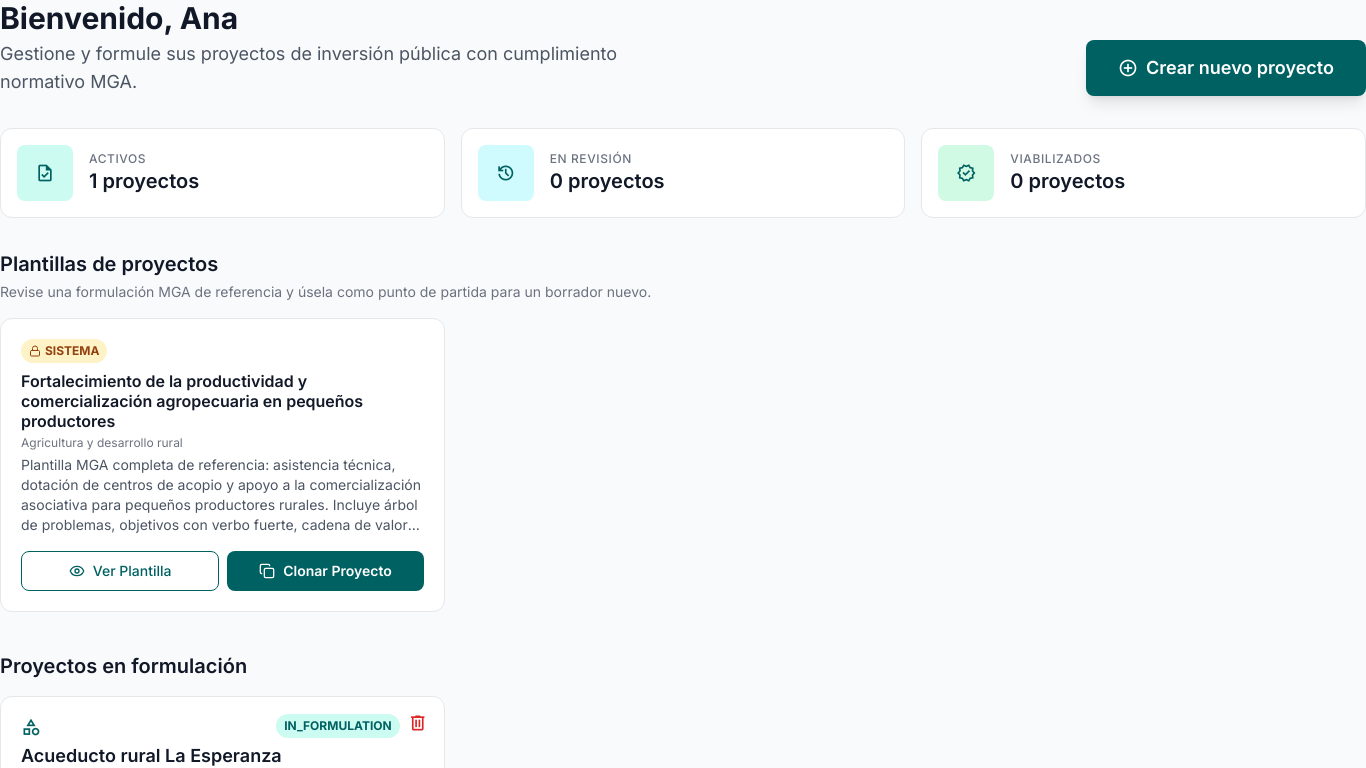
Test: ProjectsDashboard › abre y cierra el modal desde el botón principal
Click the button "Crear nuevo proyecto". click: (1226,68)
box: [1086,40,1365,96]
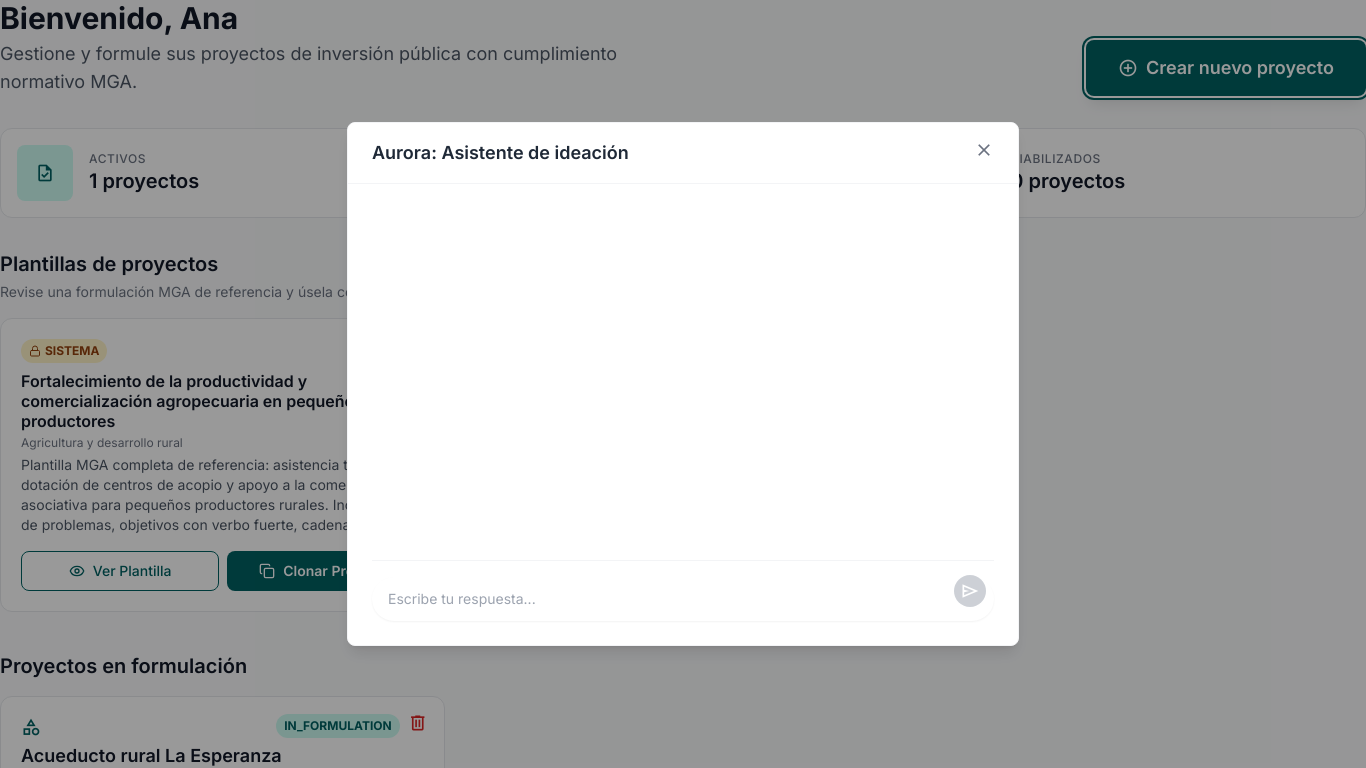
Click the button named "Cerrar". click: (984,153)
box: [974,140,994,166]
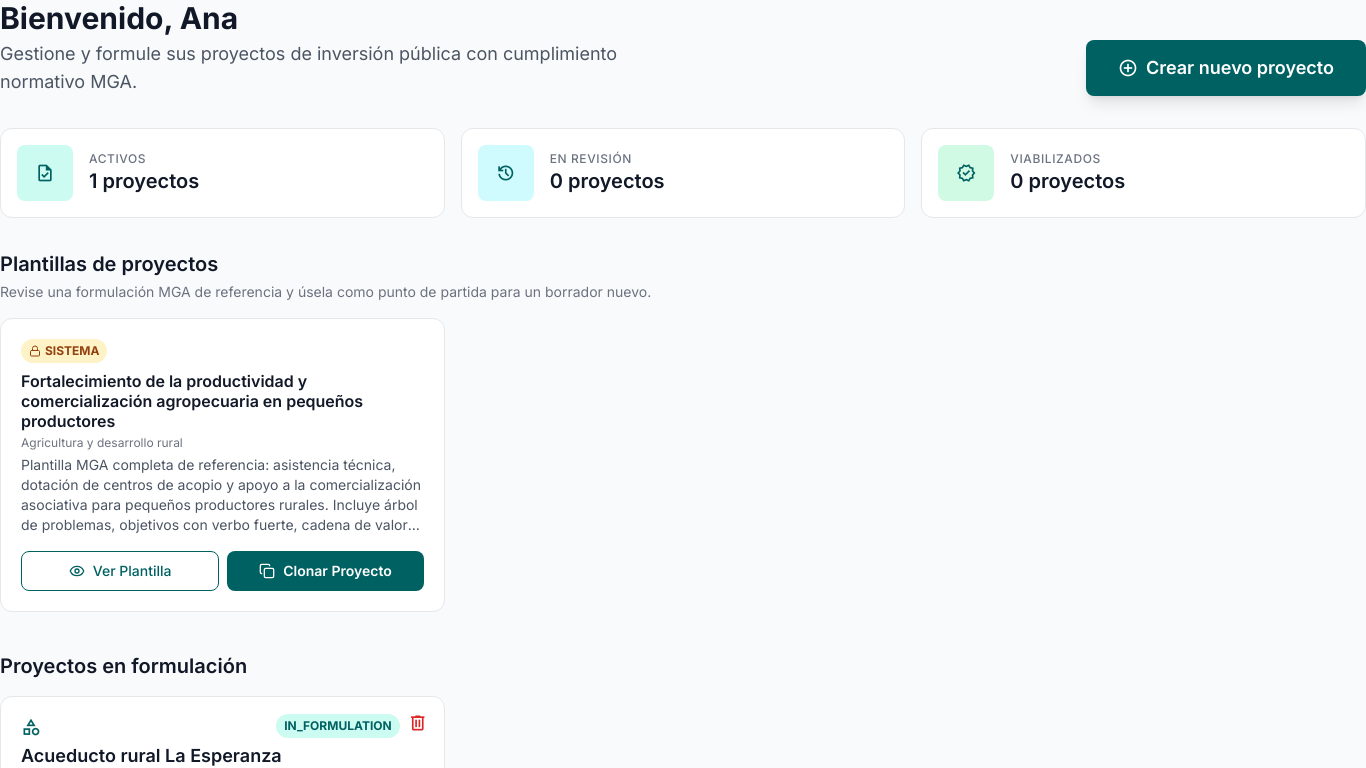
Result: the dialog is gone
